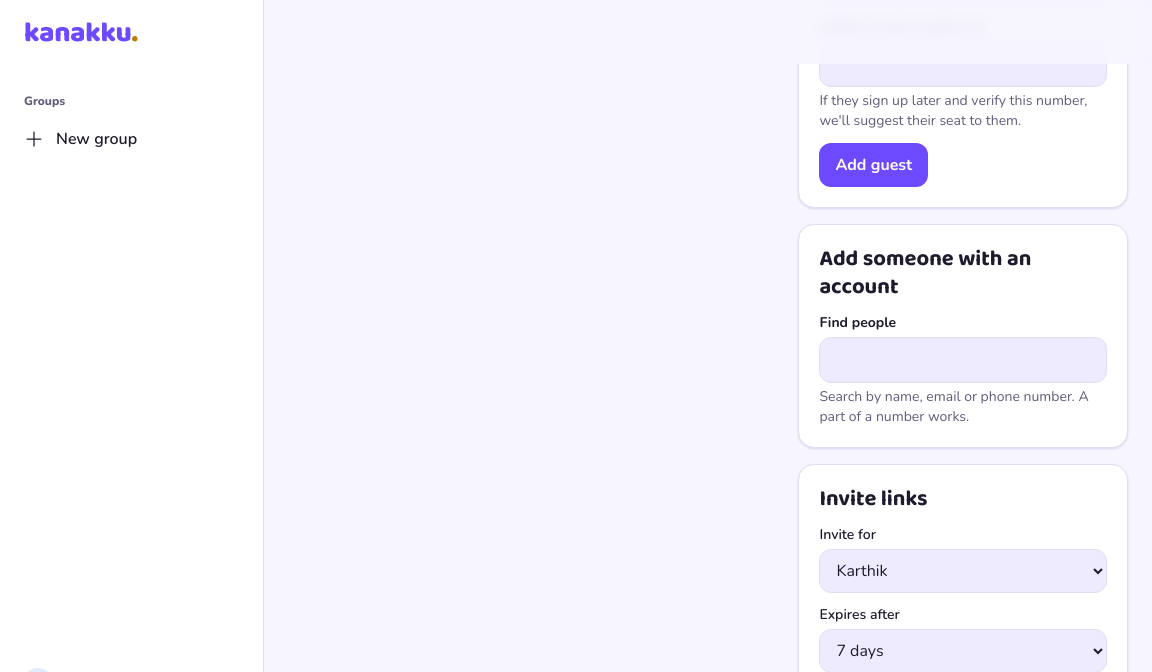
Test case: MemberPicker › shows Invite and no Add for an invite-only user
(page scrolled)
Type "tara" into the search field labelled "Find people" at (963, 360), box [820,338,1106,382]
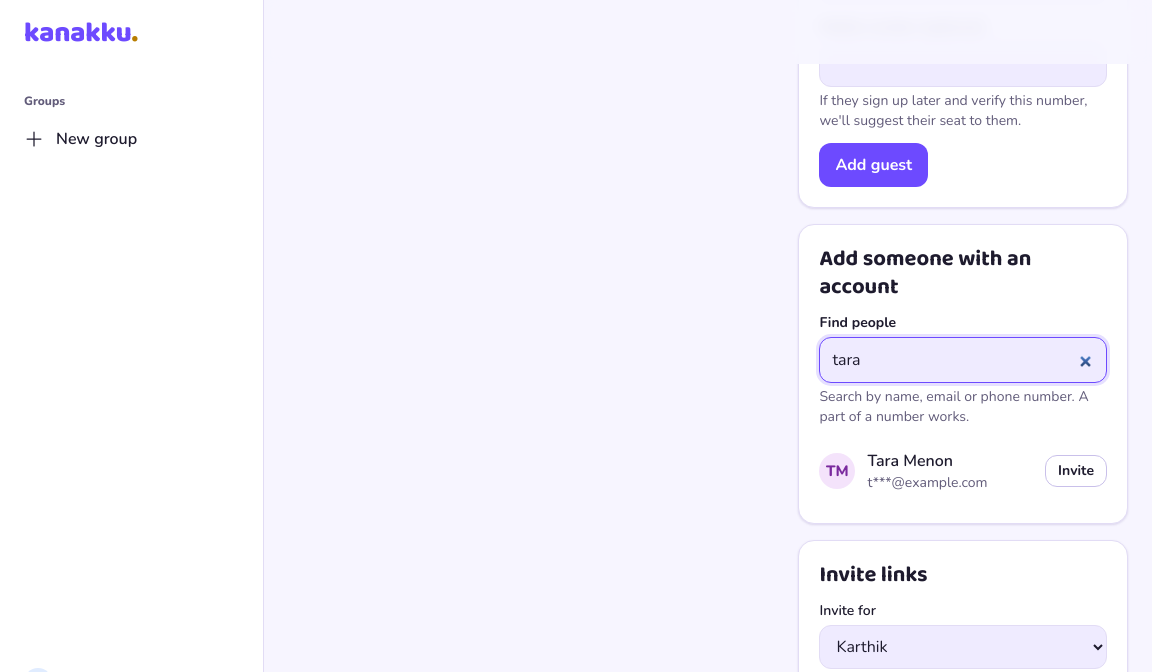
Now the button with aria-label "Invite Tara Menon" is shown, box [1045,455,1107,487]
